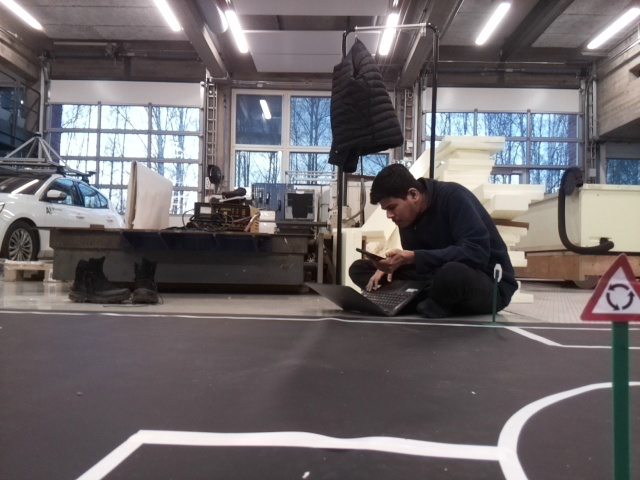Roundabout: (581, 249, 639, 324)
